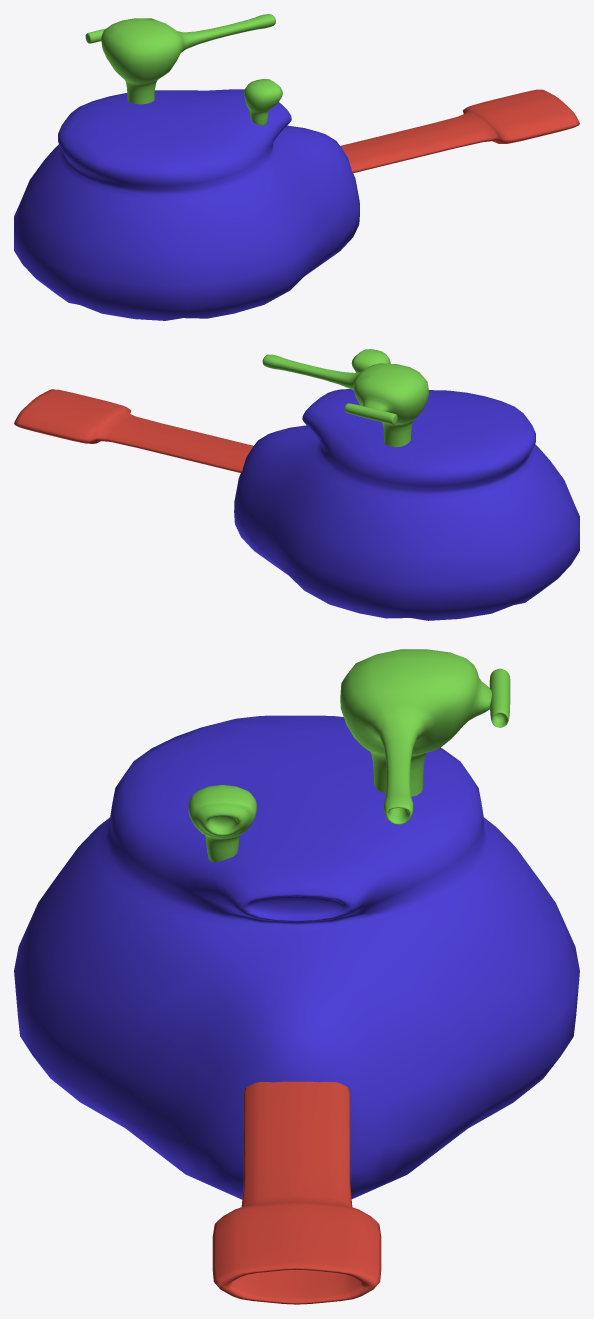
The model's file is CañonLaser.fbx.
3 renders of one model, top to bottom at view 1: azimuth 30°, elevation 25°; view 2: azimuth 150°, elevation 25°; view 3: azimuth 270°, elevation 25°, orthographic. The views are drawn at different scales.
Visible parts, largest first — view 1: Cuerpo, Cañon, Cube; view 2: Cuerpo, Cañon, Cube; view 3: Cuerpo, Cañon, Cube.
Boxes of the visible parts, x1,y1,x2,y2 form: Cuerpo: (14,89,359,320); Cañon: (340,89,579,172); Cube: (85,14,282,125); Cuerpo: (234,389,579,620); Cañon: (14,389,253,472); Cube: (262,349,428,447); Cuerpo: (14,715,579,1199); Cañon: (212,1081,381,1304); Cube: (188,649,510,862).
Size of the model in its own units: 339 by 146 by 173.
